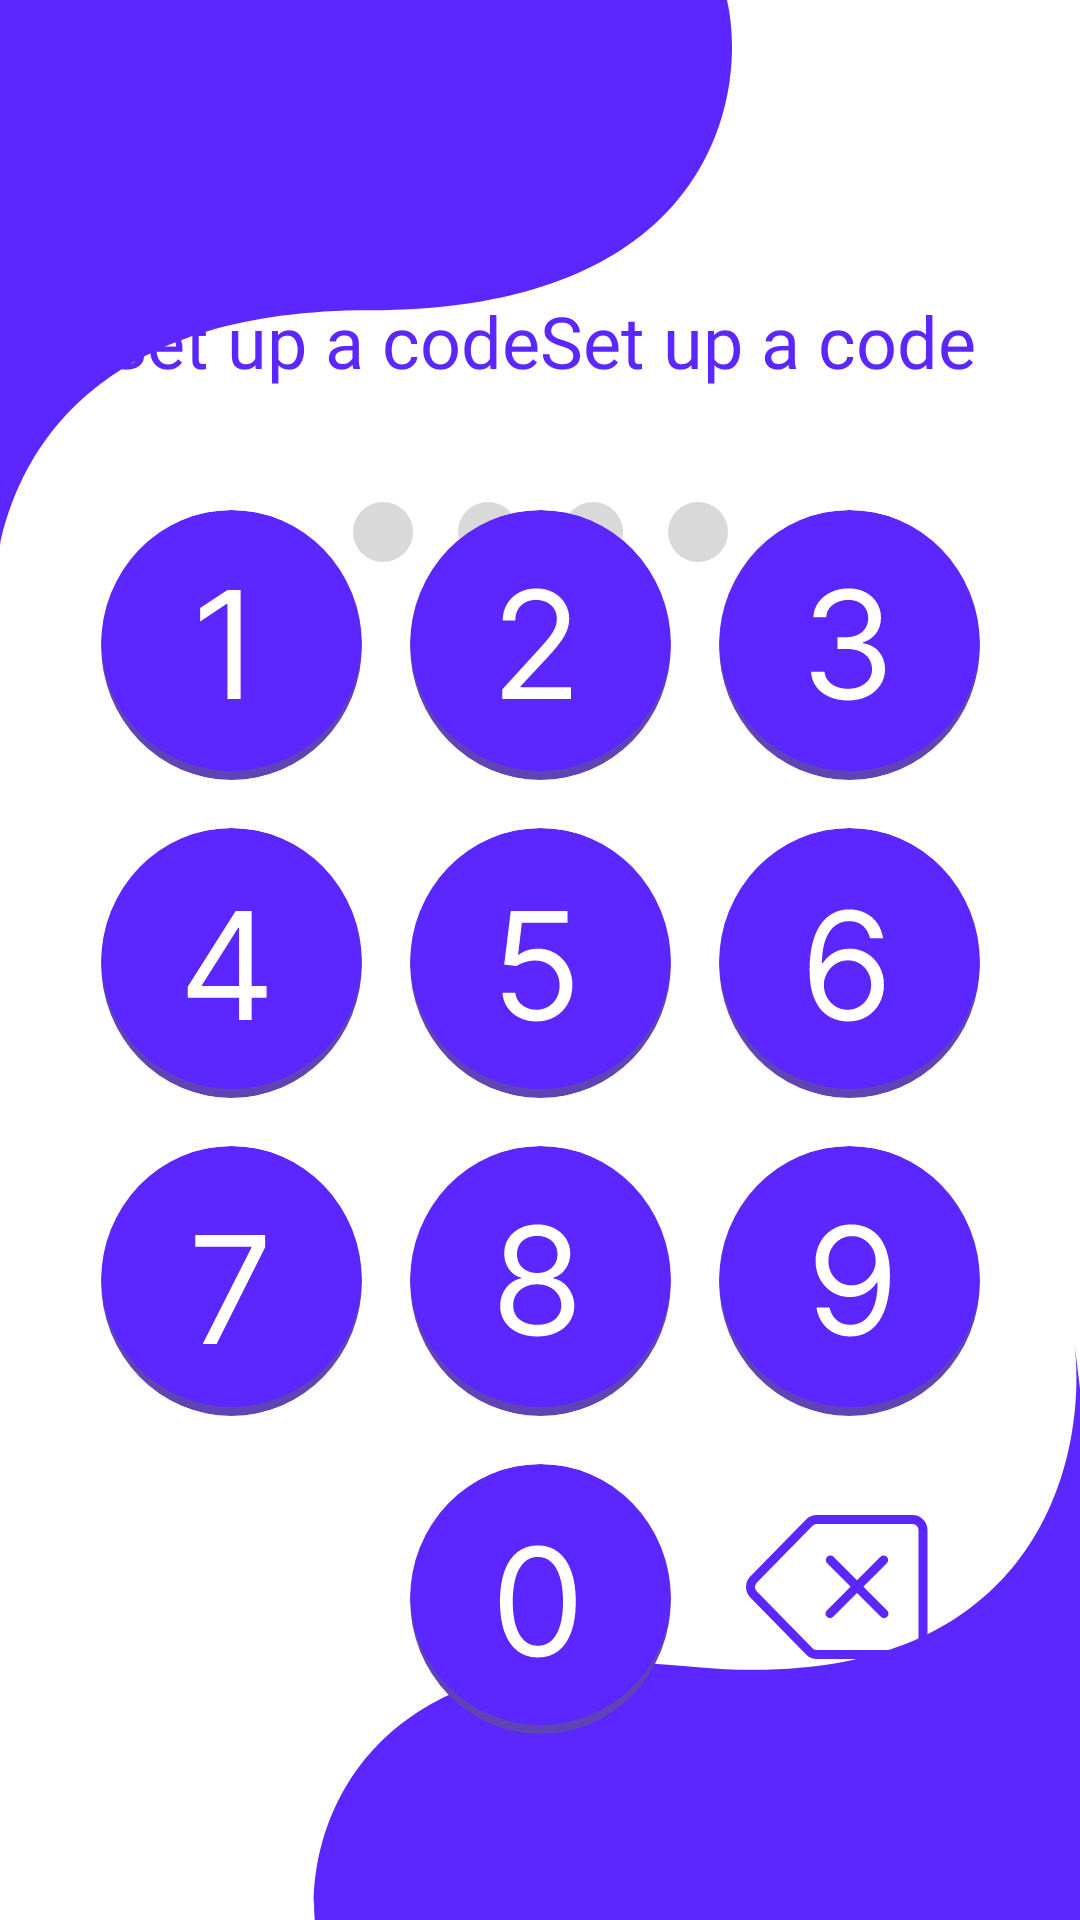

Icons on this 1080px x 1920px Android screen, each with the point to tap as point (x, y):
delete: point (837, 1587)
